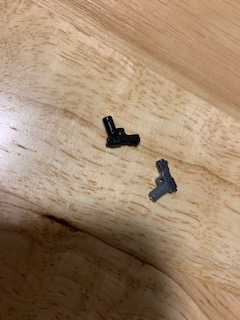pistol: (95, 112, 147, 151), (144, 156, 181, 205)
